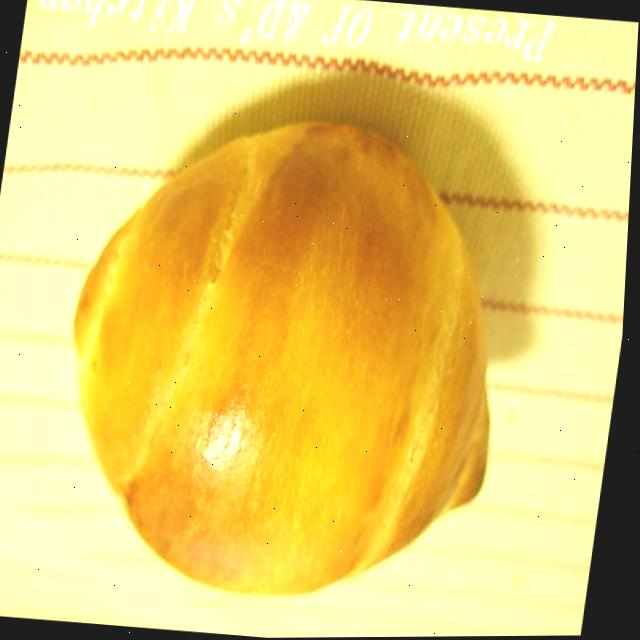面包点心: (35, 89, 549, 633)
